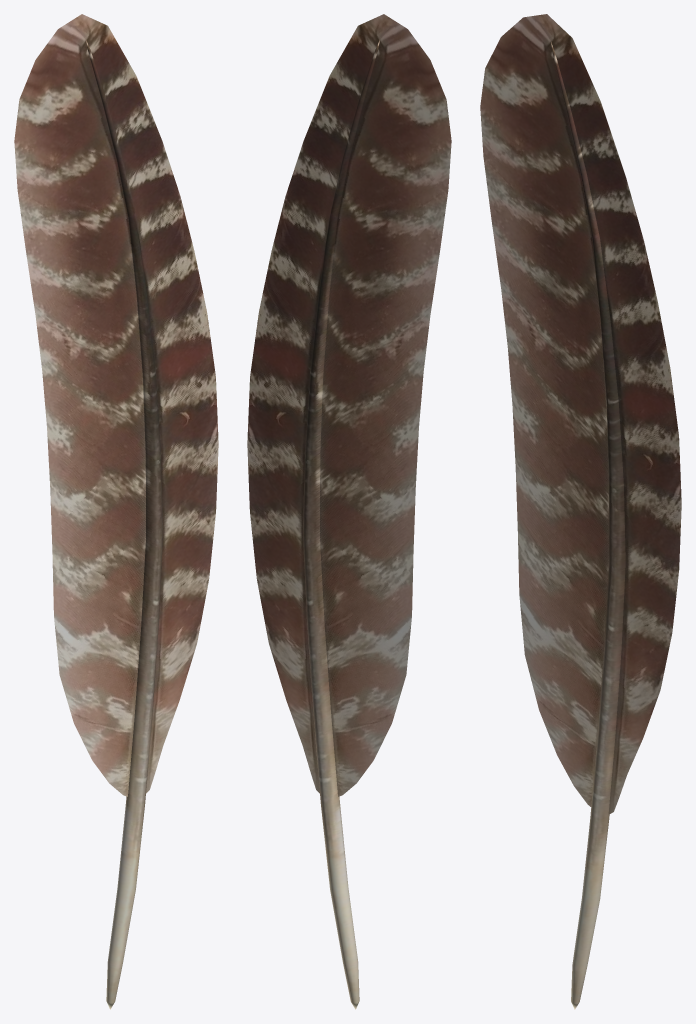
File: Quill1.fbx
3 renders of one model, left to right at view 1: azimuth 30°, elevation 25°; view 2: azimuth 150°, elevation 25°; view 3: azimuth 330°, elevation 25°, orthographic.
Visible parts, largest first — view 1: Quill_LOD0; view 2: Quill_LOD0; view 3: Quill_LOD0.
Part boxes in pixels (x1=…): Quill_LOD0: x1=14, y1=14, x2=218, y2=1009; Quill_LOD0: x1=247, y1=14, x2=451, y2=1009; Quill_LOD0: x1=480, y1=14, x2=681, y2=1009.
Size of what is drawn, in the model's own units: 25.66 by 120 by 2.1.
